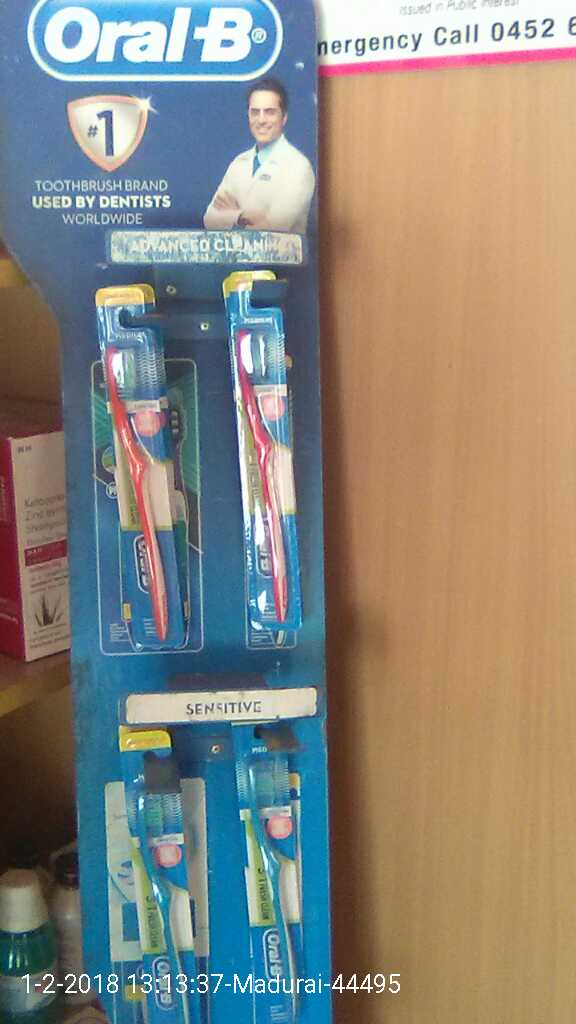oralb: (89, 299, 183, 649), (223, 320, 311, 656), (235, 768, 311, 1024), (128, 783, 194, 1022)
